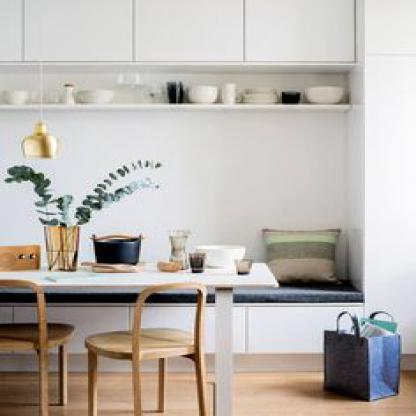chair: (88, 265, 214, 416), (0, 273, 78, 415)
sofa: (231, 224, 363, 307), (14, 0, 65, 172)
table: (0, 254, 286, 415)
